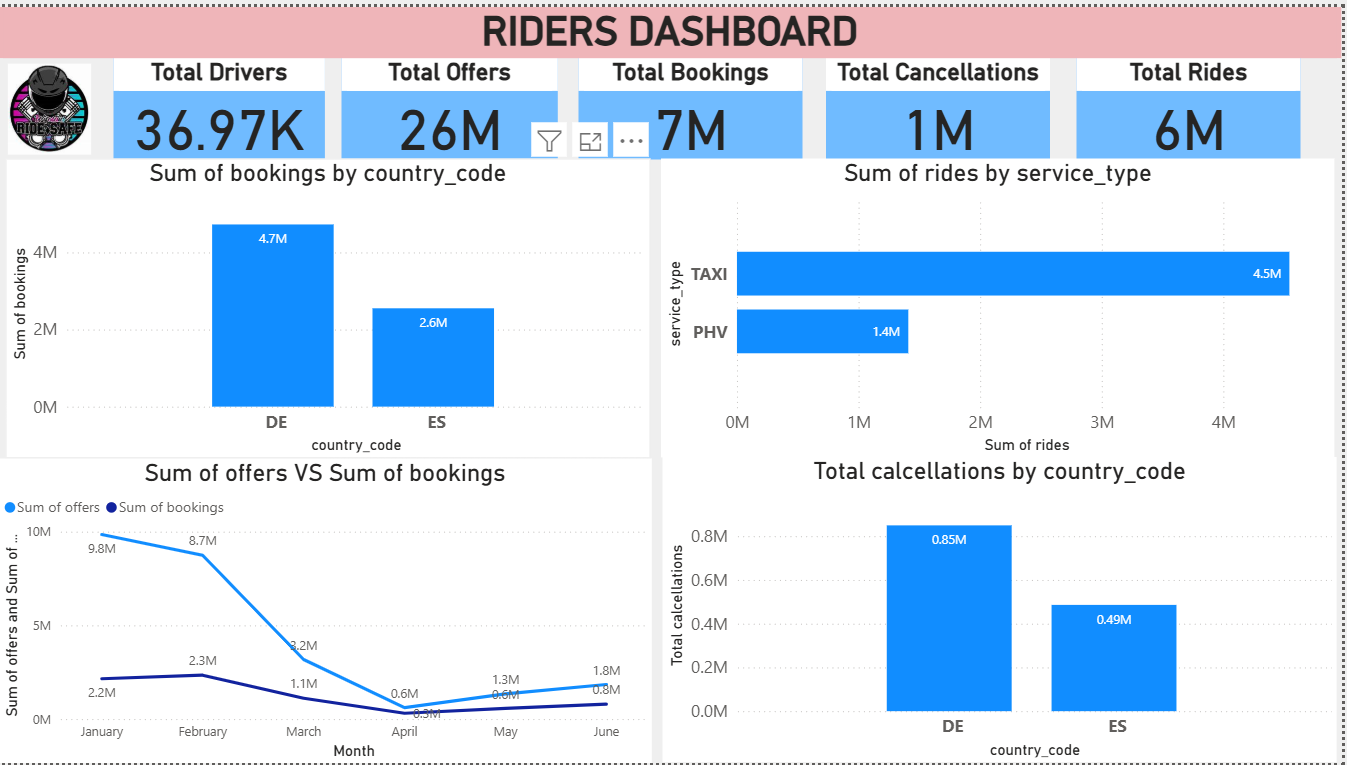

This screenshot's page, from the dashboard's own definition file:
{"tool":"powerbi","page":{"name":"Home","canvas":[1280,720],"ordinal":0},"visuals":[{"type":"image","box":[0,48.5,98.4,96.9],"z":0},{"type":"card","title":"Total Drivers","fields":{"Values":["Count(rideit_drivers.NewDriverID)"]},"box":[110.5,48.5,201.4,96.9],"z":1000},{"type":"card","title":"Total Rides","fields":{"Values":["Sum(rideit_drivers_activity.rides)"]},"box":[1026.6,48.5,213.5,96.9],"z":2000},{"type":"card","title":"Total Cancellations","fields":{"Values":["Measures_table.Total calcellations"]},"box":[788.9,48.5,213.5,96.9],"z":3000},{"type":"card","title":"Total Bookings","fields":{"Values":["Sum(rideit_drivers_activity.bookings)"]},"box":[552.7,48.5,213.5,96.9],"z":4000},{"type":"card","title":"Total Offers","fields":{"Values":["Sum(rideit_drivers_activity.offers)"]},"box":[327.1,48.5,205.9,96.9],"z":5000},{"type":"clusteredColumnChart","fields":{"Y":["Sum(rideit_drivers_activity.bookings)"],"Category":["rideit_drivers.country_code"]},"box":[7.3,144.7,613.8,285],"z":6000},{"type":"lineChart","title":"Sum of offers VS Sum of bookings","fields":{"Y":["Sum(rideit_drivers_activity.offers)","Sum(rideit_drivers_activity.bookings)"],"Category":["rideit_drivers_activity.active_date.Variation.Date Hierarchy.Month"]},"box":[0,429.7,622.6,290.8],"z":7000},{"type":"columnChart","fields":{"Category":["rideit_drivers.country_code"],"Y":["Measures_table.Total calcellations"]},"box":[632.9,428.5,642,290.7],"z":8000},{"type":"clusteredBarChart","fields":{"Category":["rideit_drivers.service_type"],"Y":["Sum(rideit_drivers_activity.rides)"]},"box":[631.4,144.7,641.6,285],"z":9000},{"type":"textbox","title":"RIDERS DASHBOARD","box":[0,0,1279.5,48.5],"z":9001}]}

Visuals, with their boxes in screenshot pixels (x1, y1, x2, y2), scaled from the page's 1280x720 canvas onto the 1347x765 screenshot:
image: pyautogui.locateOnScreen(0, 52, 104, 154)
"Total Drivers" card: pyautogui.locateOnScreen(116, 52, 328, 154)
"Total Rides" card: pyautogui.locateOnScreen(1080, 52, 1305, 154)
"Total Cancellations" card: pyautogui.locateOnScreen(830, 52, 1055, 154)
"Total Bookings" card: pyautogui.locateOnScreen(582, 52, 806, 154)
"Total Offers" card: pyautogui.locateOnScreen(344, 52, 561, 154)
clusteredColumnChart - Sum(rideit_drivers_activity.bookings) x rideit_drivers.country_code: pyautogui.locateOnScreen(8, 154, 654, 457)
"Sum of offers VS Sum of bookings" lineChart: pyautogui.locateOnScreen(0, 457, 655, 764)
columnChart - rideit_drivers.country_code x Measures_table.Total calcellations: pyautogui.locateOnScreen(666, 455, 1342, 764)
clusteredBarChart - rideit_drivers.service_type x Sum(rideit_drivers_activity.rides): pyautogui.locateOnScreen(664, 154, 1340, 457)
"RIDERS DASHBOARD" textbox: pyautogui.locateOnScreen(0, 0, 1346, 52)
